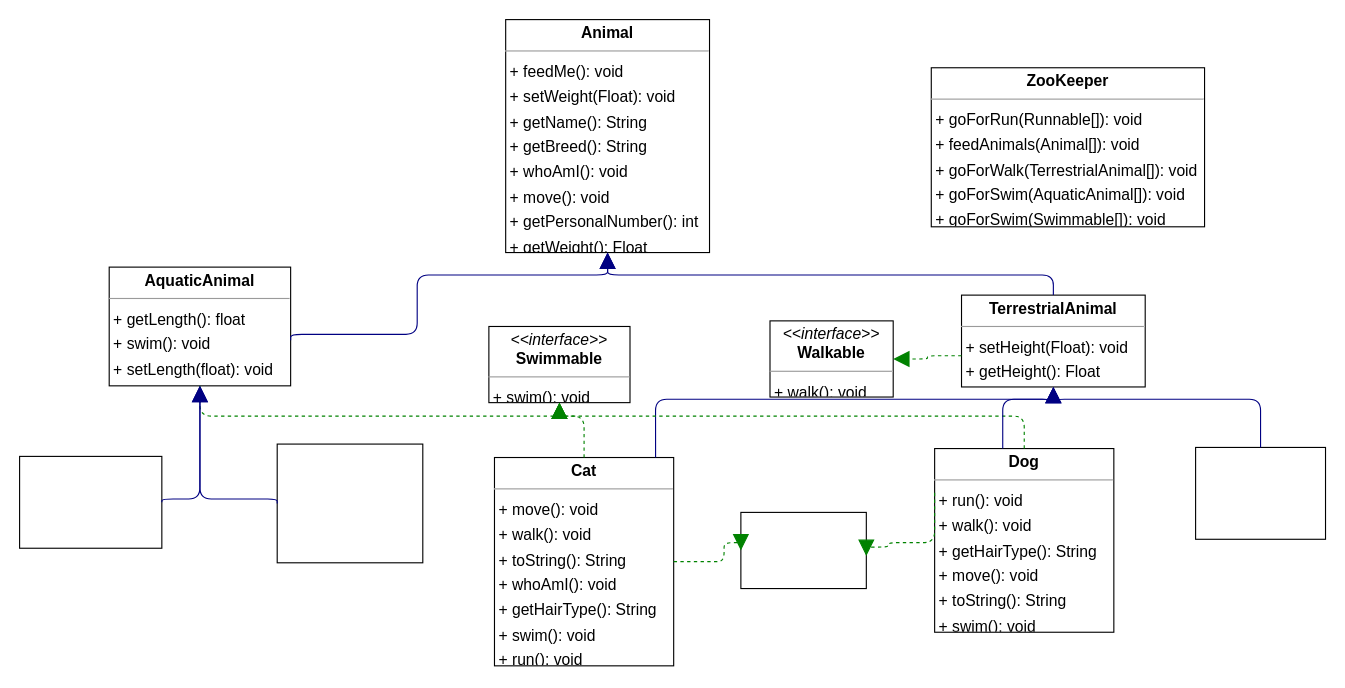
This 1345x688 diagram has some shape labels left out. Each missing label, with the centre of its shape:
"<<interface>> Runnable + run(): void" belongs at pixel 803 550.
"Shark + move(): void + feedMe(): void" belongs at pixel 90 501.
"Sloth + move(): void + walk(): void" belongs at pixel 1260 492.
"Whale + move(): void + swim(): void + whoAmI(): void" belongs at pixel 349 503.
